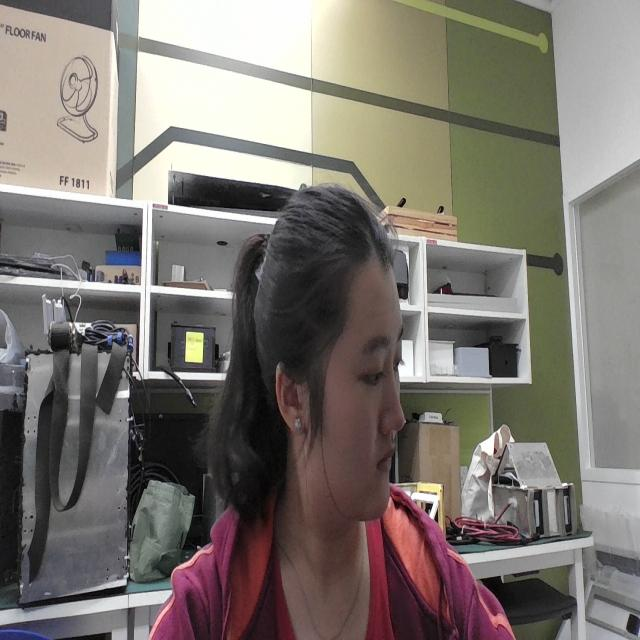Without Helmet: (203, 163, 444, 570)
